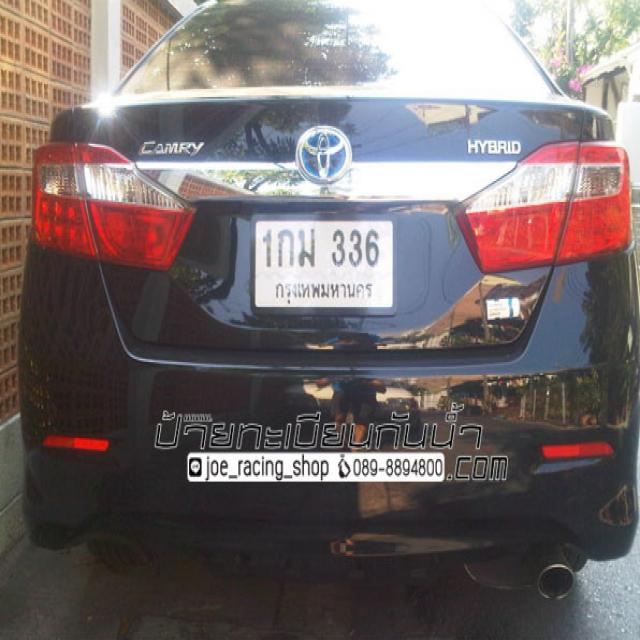license_plate: (248, 210, 398, 318)
